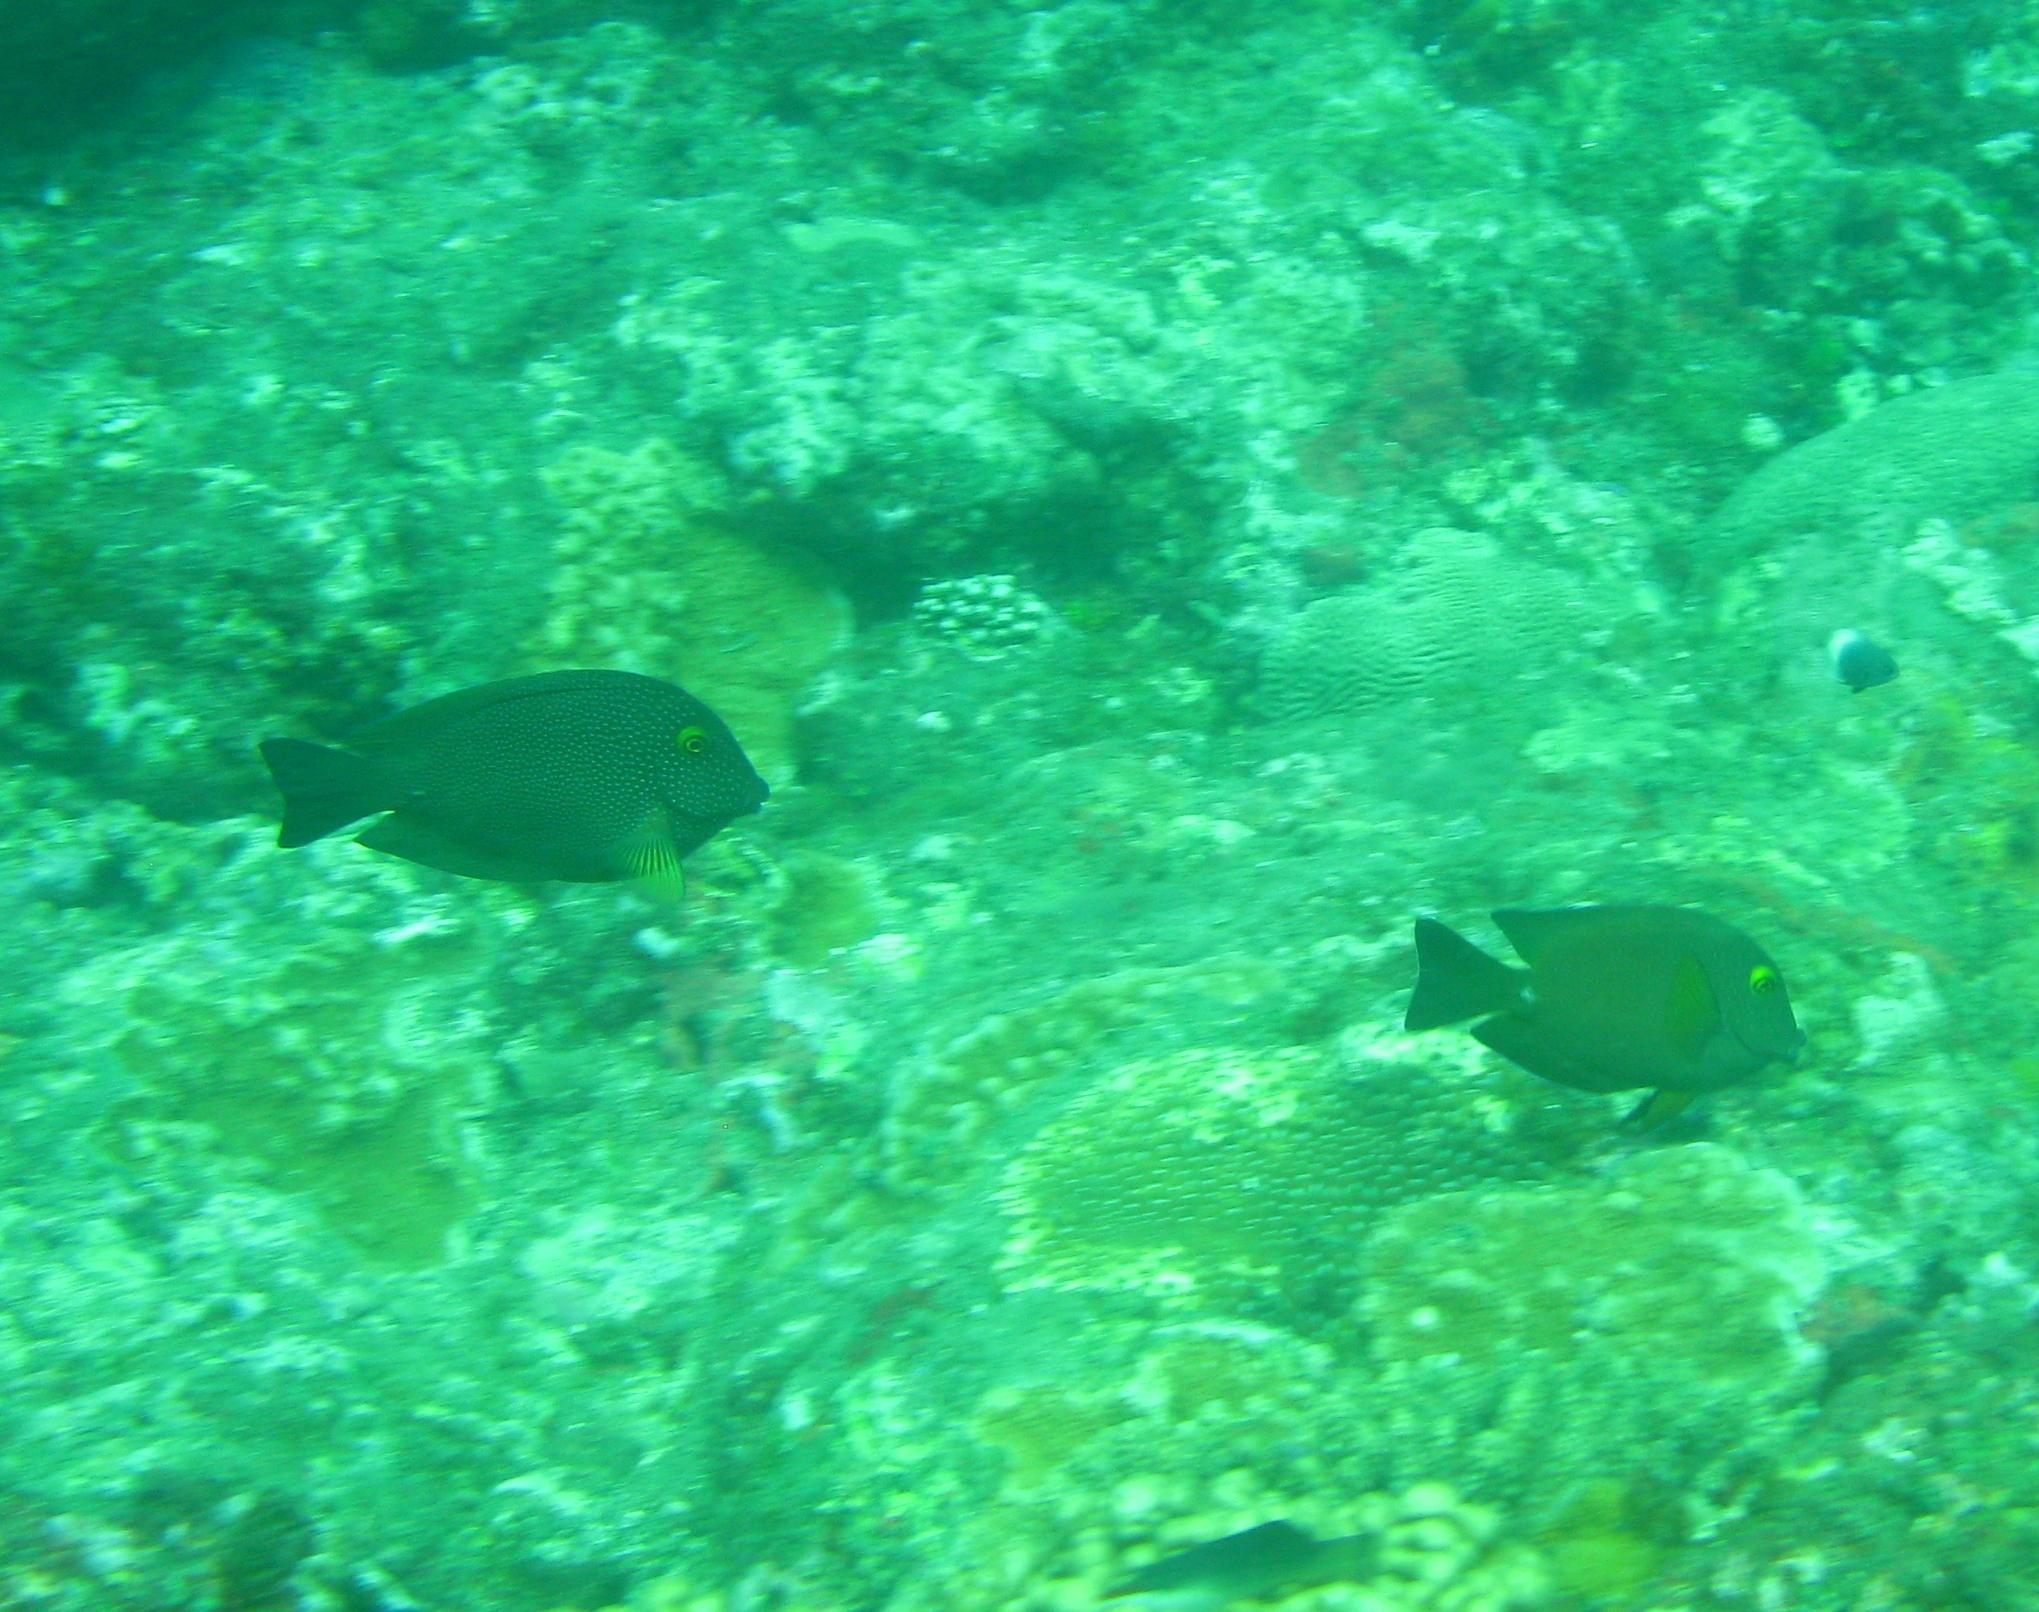Fish: (187, 589, 798, 960), (1269, 824, 1860, 1165)
